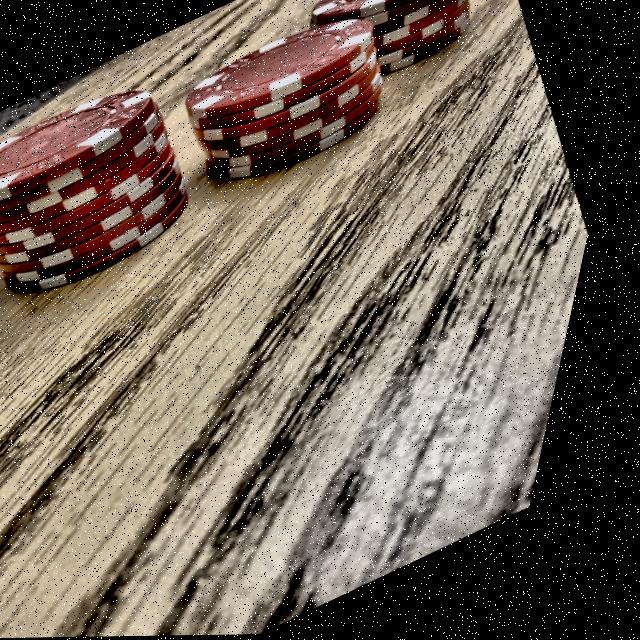Chip: (0, 42, 257, 359), (144, 0, 436, 219), (276, 0, 515, 126)
